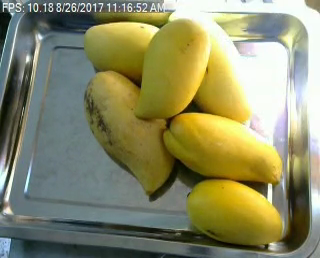Mango: (85, 71, 177, 193), (167, 9, 253, 122), (161, 111, 282, 184), (138, 19, 210, 115), (189, 179, 283, 245), (82, 21, 168, 84)
